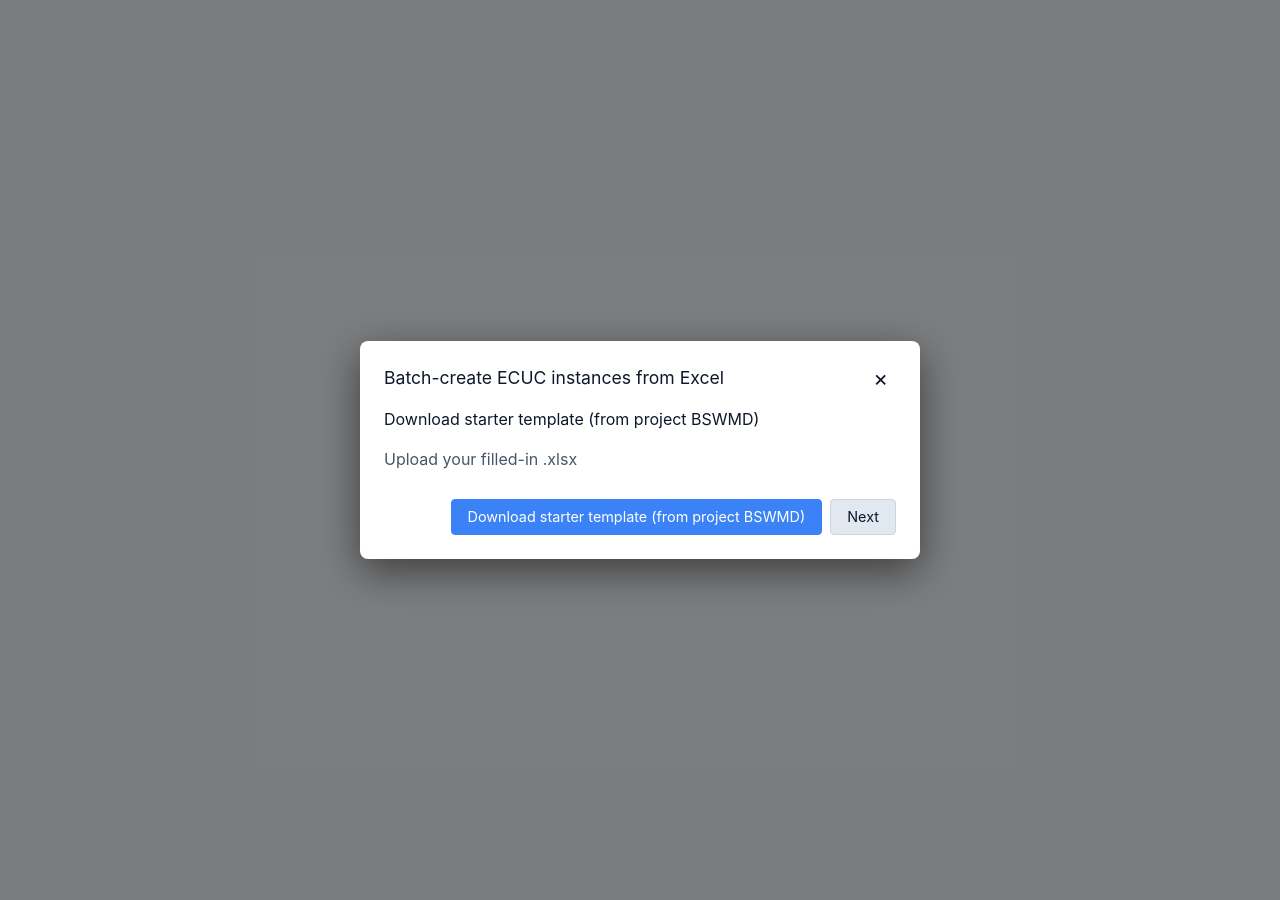
Test case: XlsxBatchWizard (v1.25.0 T5) › step 3 commit invokes xlsxCommitBatch IPC with resolutions map
Later steps or results of the test are not shown.
Click the button with test id "xlsx-wizard-step1-download": click(636, 517) left=451, top=499, right=822, bottom=535
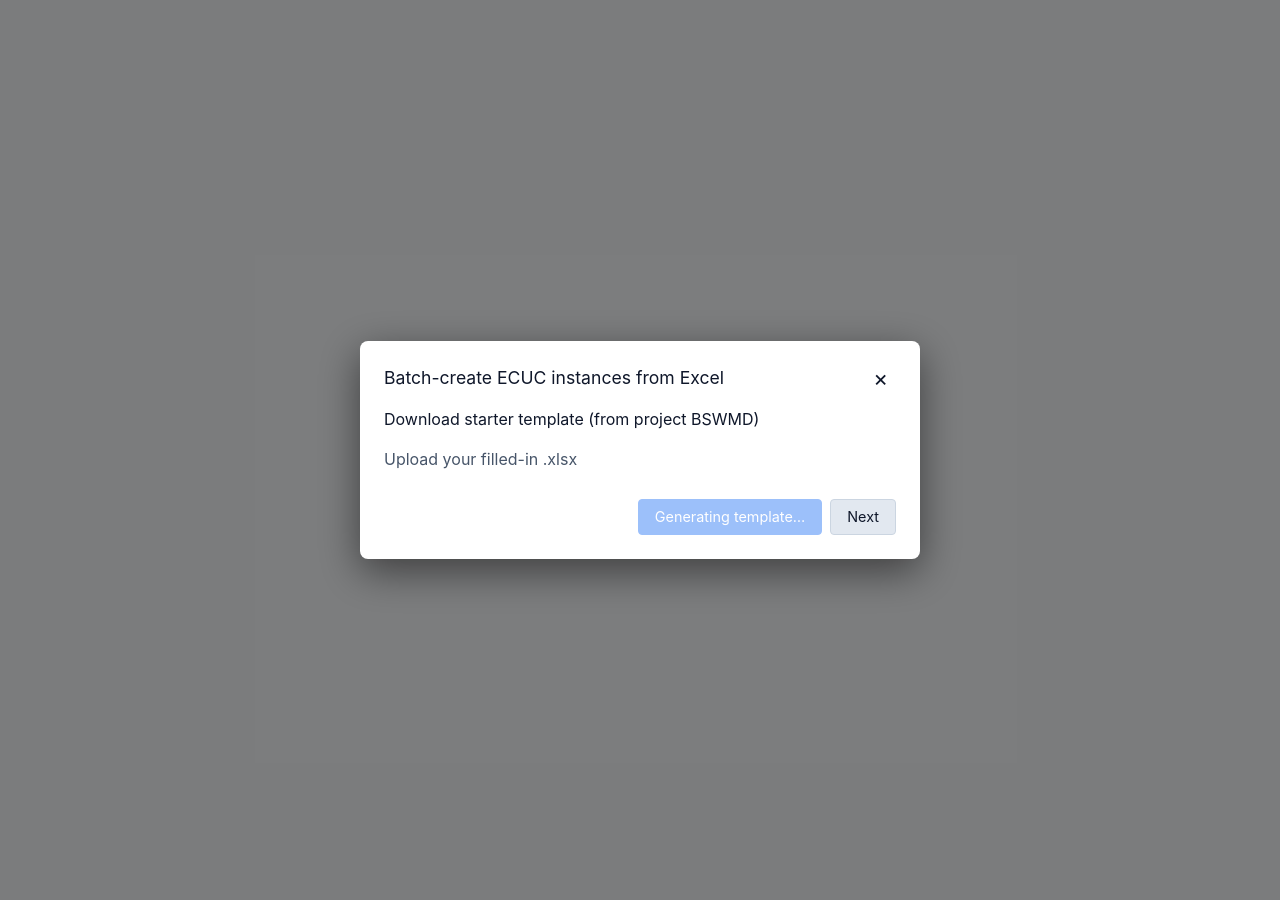
Click the button with test id "xlsx-wizard-step1-next": click(863, 517) left=830, top=499, right=896, bottom=535
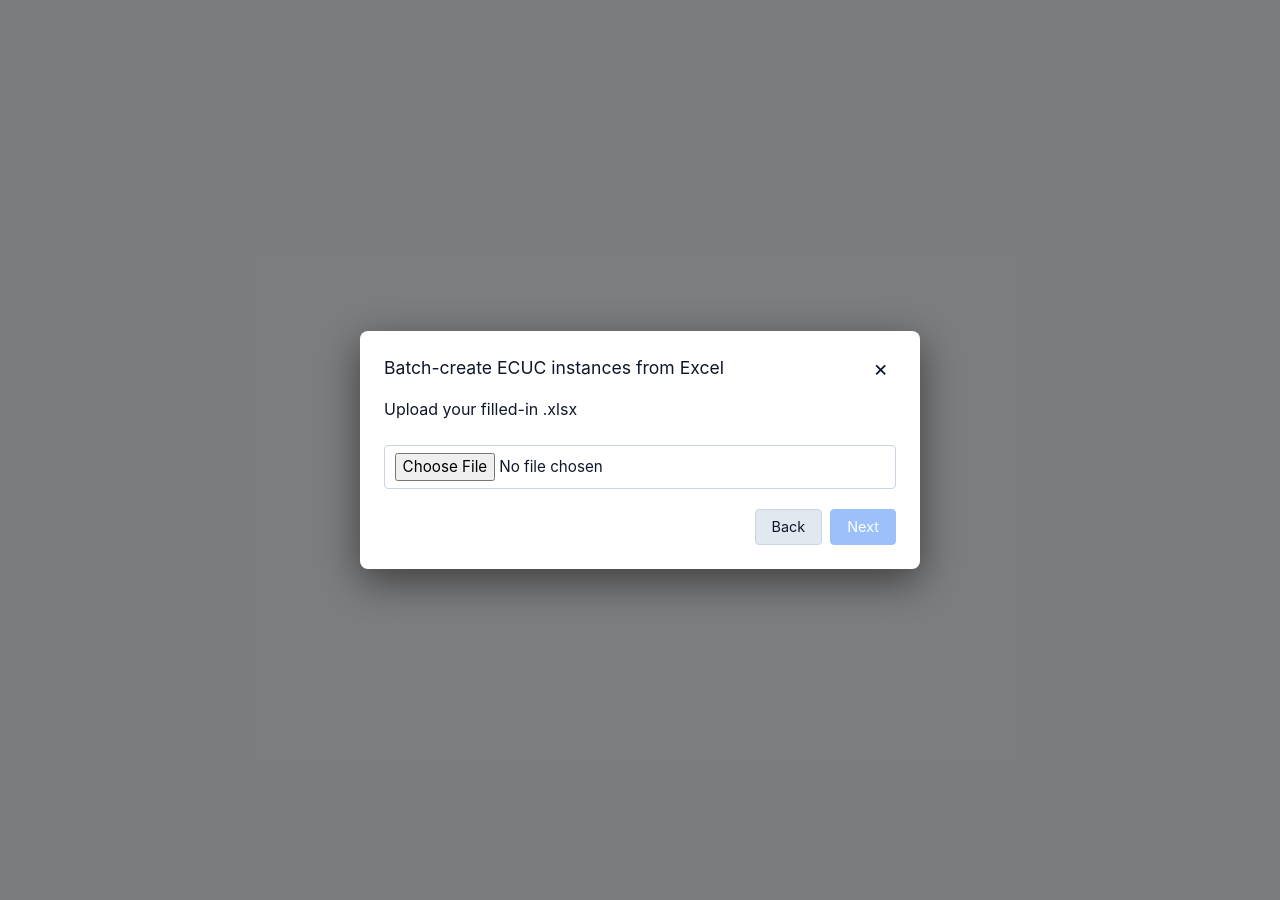
Check: the element with test id "xlsx-wizard-step2" is shown, box left=384, top=397, right=896, bottom=545
